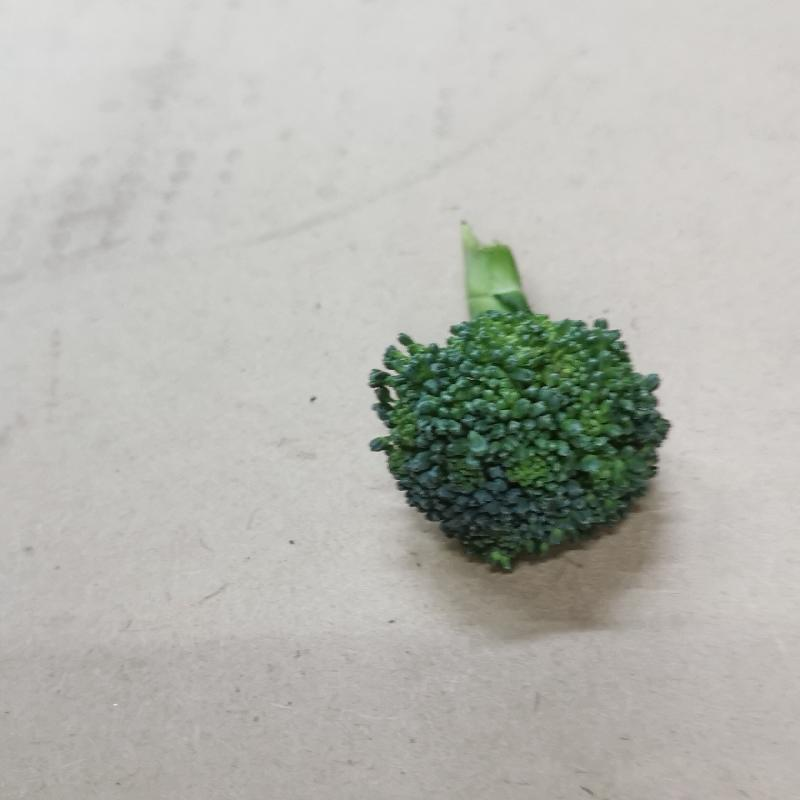broccoli: (365, 213, 674, 579)
